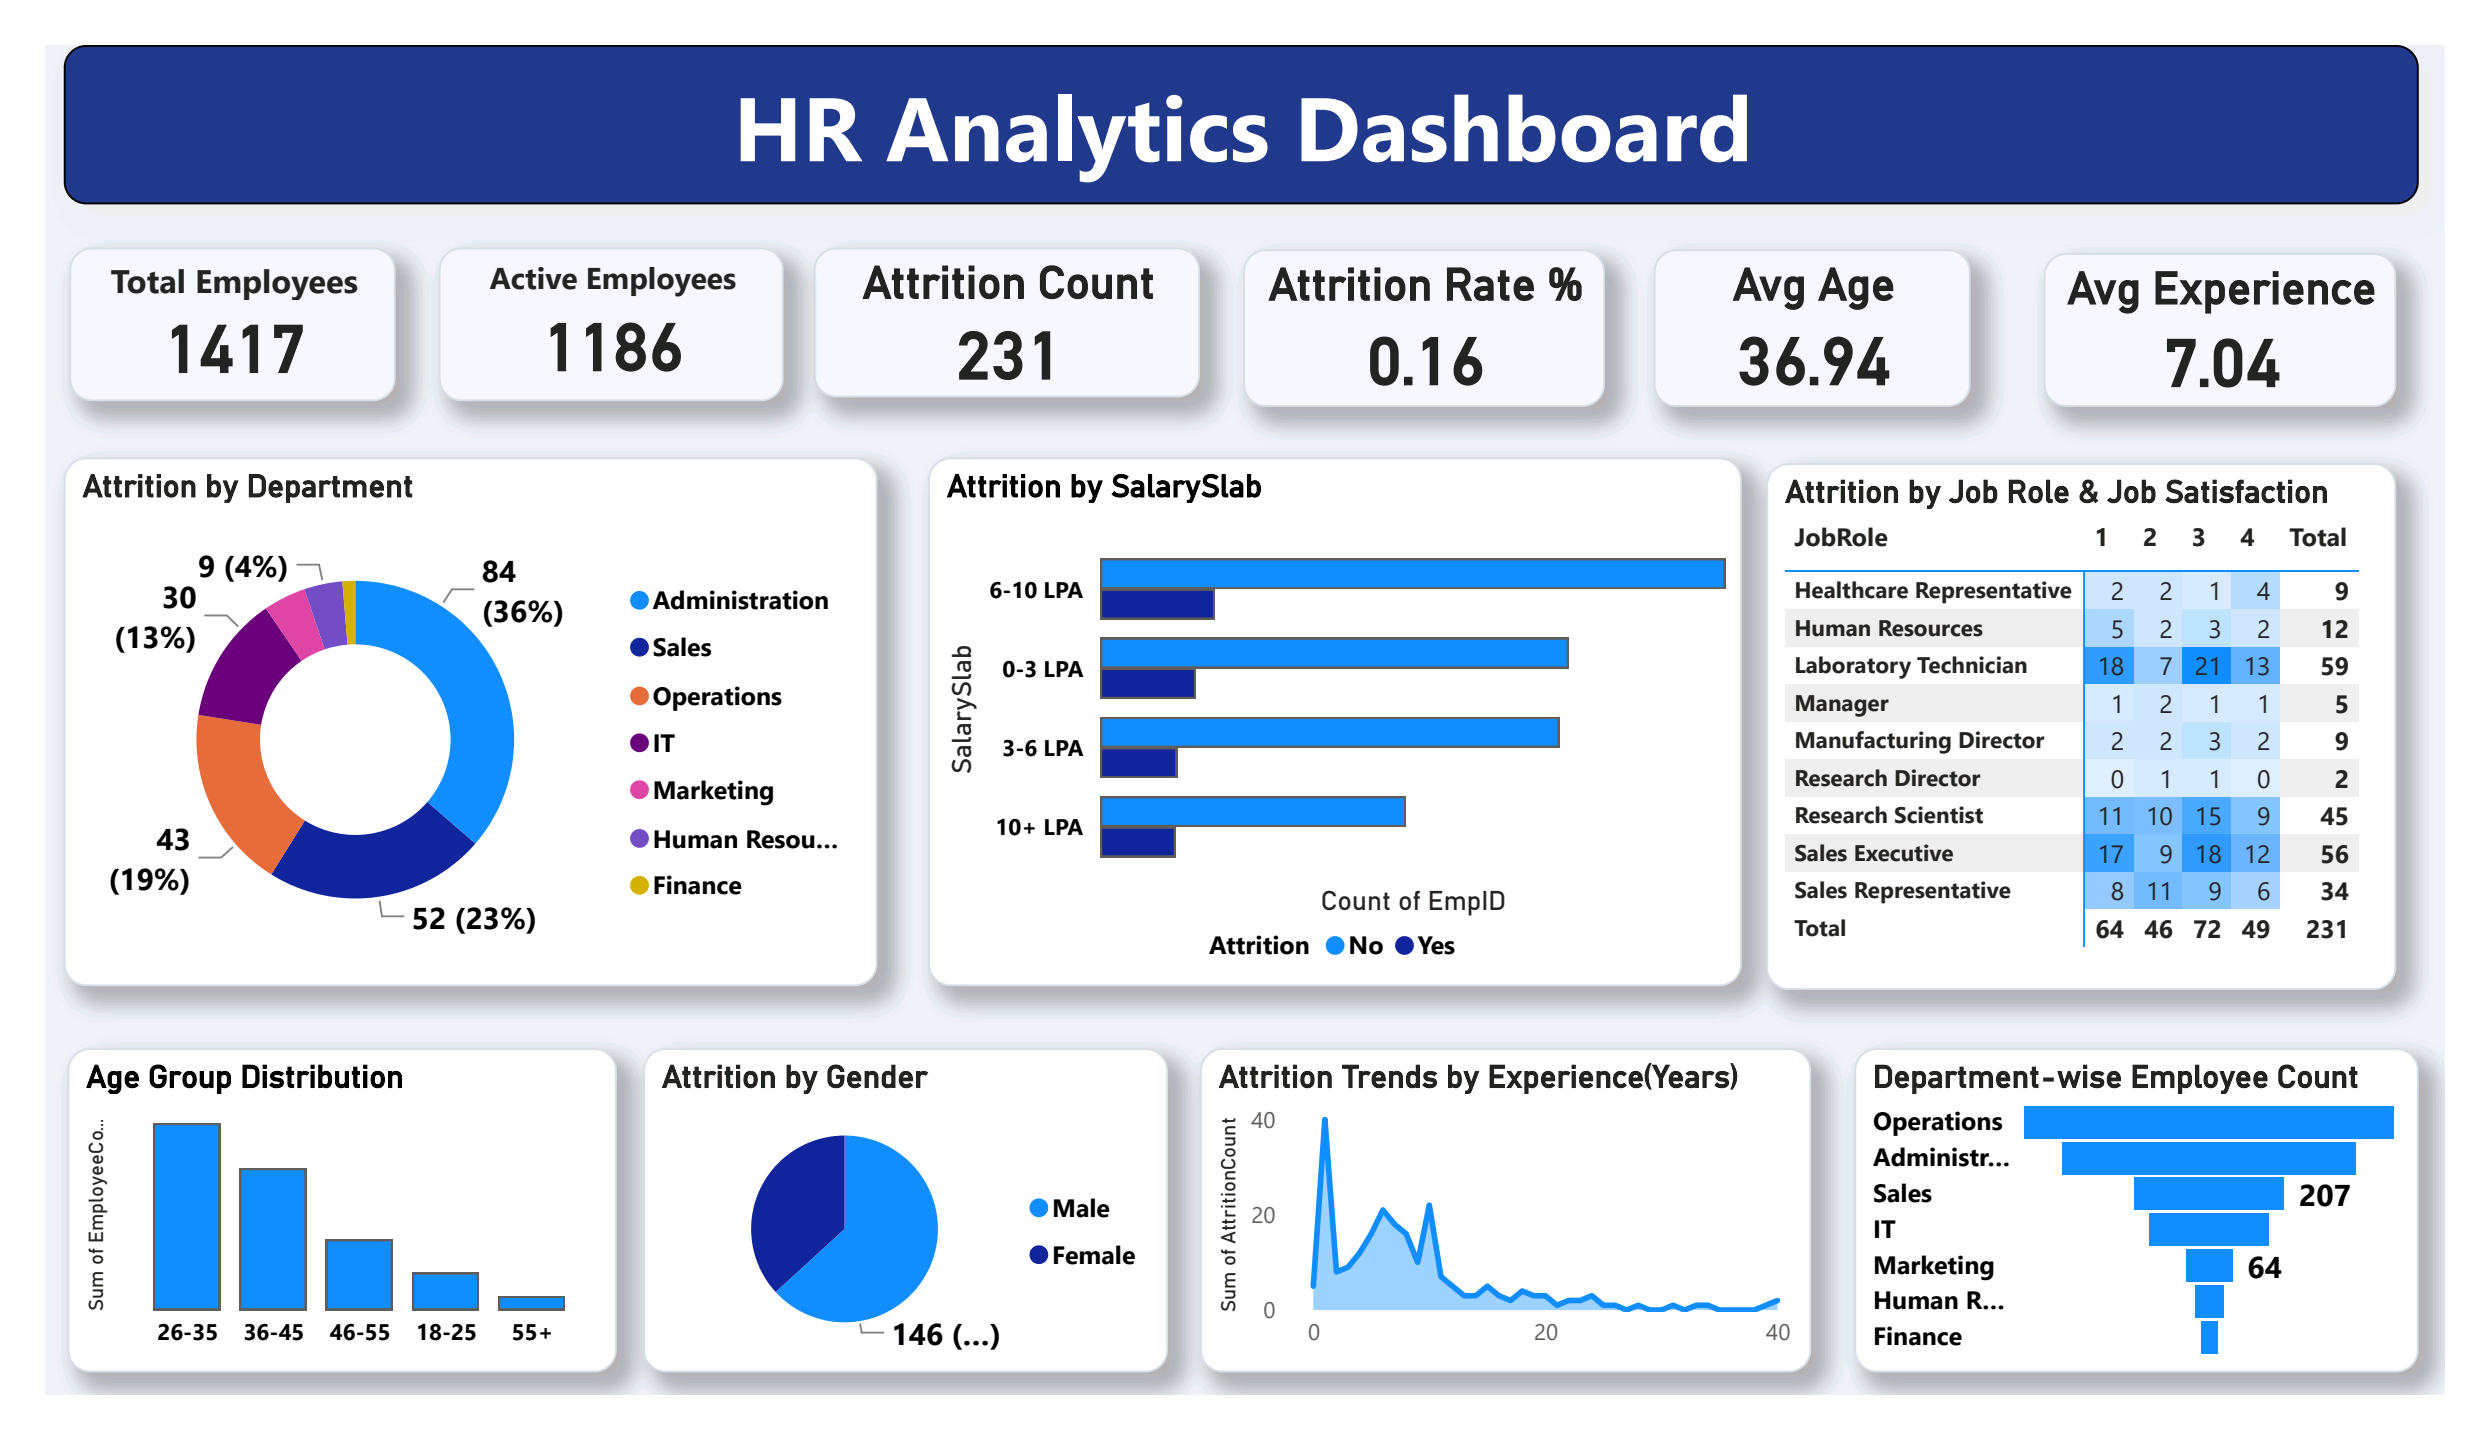

This screenshot's page, from the dashboard's own definition file:
{"tool":"powerbi","page":{"name":"Page 1","canvas":[1280,720],"ordinal":0},"visuals":[{"type":"textbox","box":[10.1,0,1255.9,84.8],"z":0},{"type":"card","title":"Total Employees","fields":{"Values":["CountNonNull(HR_Analytics-4.EmpID)"]},"box":[12.9,107.8,173.9,81.9],"z":1000},{"type":"card","title":"Attrition Count","fields":{"Values":["Sum(HR_Analytics-4.AttritionCount)"]},"box":[409.5,107.8,206.9,80.5],"z":2000},{"type":"card","title":"Active Employees","fields":{"Values":["CountNonNull(HR_Analytics-4.EmployeeCount)"]},"box":[209.8,107.8,183.9,81.9],"z":3000},{"type":"card","title":"Attrition Rate %","fields":{"Values":["HR_Analytics-4.Attrition Rate"]},"box":[639.5,109.2,192.6,83.3],"z":4000},{"type":"card","title":"Avg Age","fields":{"Values":["Avg(HR_Analytics-4.Age)"]},"box":[857.9,109.2,169.6,83.3],"z":5000},{"type":"card","title":"Avg Experience","fields":{"Values":["Avg(HR_Analytics-4.YearsatCompany)"]},"box":[1066.2,110.6,188.2,81.9],"z":6000},{"type":"donutChart","title":" Attrition by Department","fields":{"Category":["HR_Analytics-4.Department"],"Y":["Sum(HR_Analytics-4.AttritionCount)"]},"box":[10.1,219.9,434,281.7],"z":7000},{"type":"clusteredBarChart","title":"Attrition by SalarySlab","fields":{"Category":["HR_Analytics-4.SalarySlab"],"Y":["CountNonNull(HR_Analytics-4.EmpID)"],"Series":["HR_Analytics-4.Attrition"]},"box":[471.3,219.9,434,281.7],"z":8000},{"type":"pivotTable","title":"Attrition by Job Role & Job Satisfaction","fields":{"Rows":["HR_Analytics-4.JobRole"],"Columns":["HR_Analytics-4.JobSatisfaction"],"Values":["Sum(HR_Analytics-4.AttritionCount)"]},"box":[918.2,222.7,336.3,281.7],"z":9000},{"type":"columnChart","title":" Age Group Distribution","fields":{"Category":["HR_Analytics-4.AgeGroup"],"Y":["Sum(HR_Analytics-4.EmployeeCount)"]},"box":[12.4,534.8,292.2,173.6],"z":10000},{"type":"pieChart","title":"Attrition by Gender","fields":{"Category":["HR_Analytics-4.Gender"],"Y":["Sum(HR_Analytics-4.AttritionCount)"]},"box":[318.8,534.8,279.8,173.6],"z":11000},{"type":"stackedAreaChart","title":"Attrition  Trends by Experience(Years)","fields":{"Category":["HR_Analytics-4.TotalExperience(Years)"],"Y":["Sum(HR_Analytics-4.AttritionCount)"]},"box":[616.3,534.8,325.9,173.6],"z":12000},{"type":"funnel","title":"Department-wise  Employee Count","fields":{"Category":["HR_Analytics-4.Department"],"Y":["CountNonNull(HR_Analytics-4.EmpID)"]},"box":[965.2,534.8,301.1,173.6],"z":13000}]}

Visuals, with their boxes in screenshot pixels (x1, y1, x2, y2), scaled from the page's 1280x720 canvas onto the 2490x1440 screenshot:
textbox: (20, 0, 2463, 170)
"Total Employees" card: (25, 216, 363, 379)
"Attrition Count" card: (797, 216, 1199, 377)
"Active Employees" card: (408, 216, 766, 379)
"Attrition Rate %" card: (1244, 218, 1619, 385)
"Avg Age" card: (1669, 218, 1999, 385)
"Avg Experience" card: (2074, 221, 2440, 385)
" Attrition by Department" donutChart: (20, 440, 864, 1003)
"Attrition by SalarySlab" clusteredBarChart: (917, 440, 1761, 1003)
"Attrition by Job Role & Job Satisfaction" pivotTable: (1786, 445, 2440, 1009)
" Age Group Distribution" columnChart: (24, 1070, 593, 1417)
"Attrition by Gender" pieChart: (620, 1070, 1164, 1417)
"Attrition  Trends by Experience(Years)" stackedAreaChart: (1199, 1070, 1833, 1417)
"Department-wise  Employee Count" funnel: (1878, 1070, 2463, 1417)
